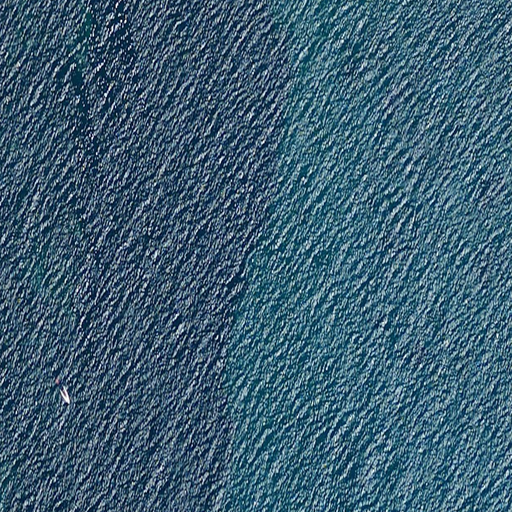ship: (59, 385, 72, 407)
